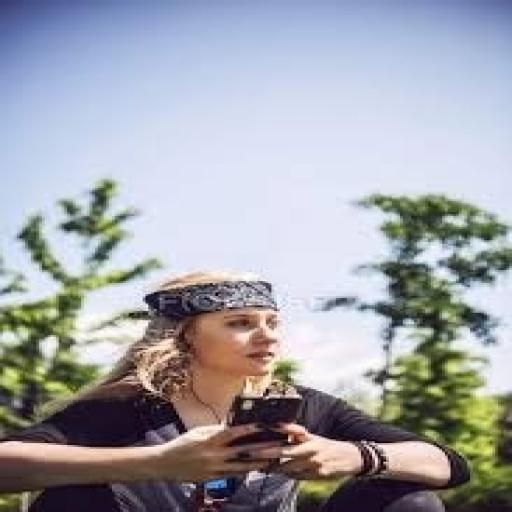listening_to_music: (0, 268, 476, 510)
